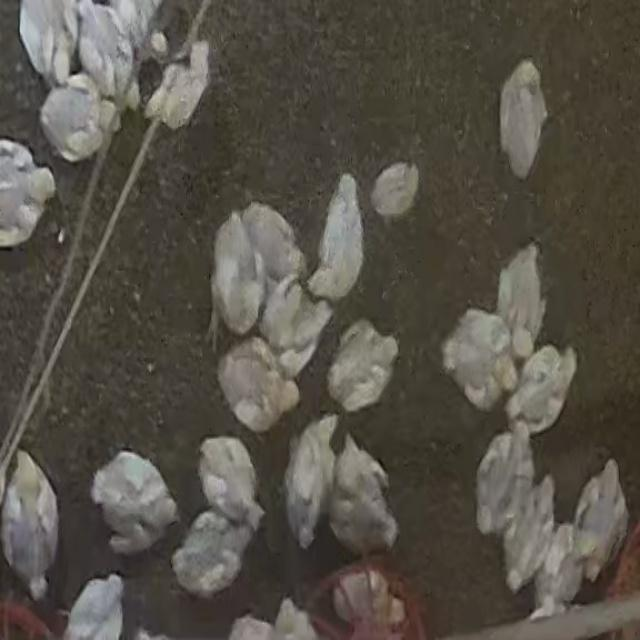chicken: (91, 448, 180, 557), (1, 447, 62, 601), (327, 429, 397, 556), (216, 336, 298, 436), (442, 306, 516, 415), (260, 276, 334, 381), (74, 2, 143, 114), (308, 172, 366, 304), (572, 454, 631, 582), (172, 508, 252, 600), (474, 421, 537, 536), (286, 414, 339, 550), (211, 210, 264, 344), (328, 321, 400, 415), (197, 435, 263, 537), (501, 473, 559, 588), (532, 514, 598, 614), (494, 237, 546, 354), (508, 342, 578, 428), (242, 200, 307, 292), (498, 58, 547, 180), (39, 78, 107, 164), (1, 140, 54, 248), (18, 1, 79, 90), (152, 40, 212, 130), (64, 572, 128, 639), (331, 569, 404, 627), (371, 160, 423, 222), (271, 596, 330, 640)
